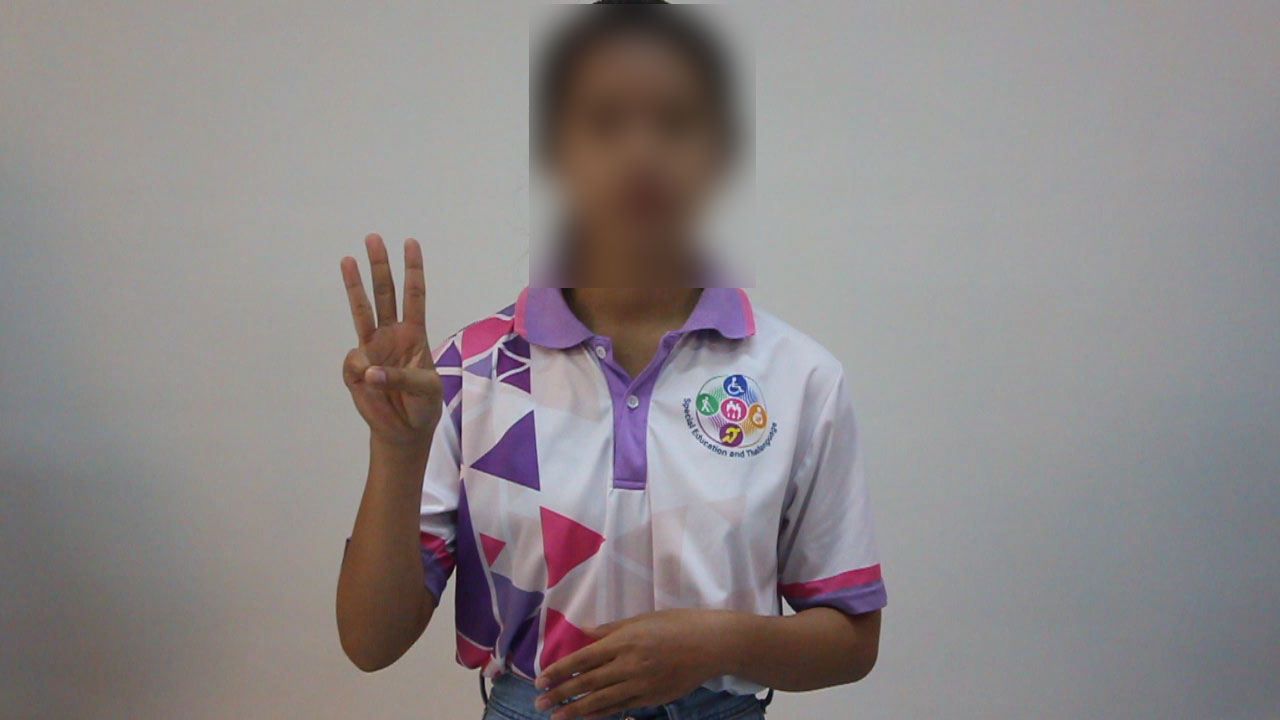wor: (332, 225, 449, 449)
